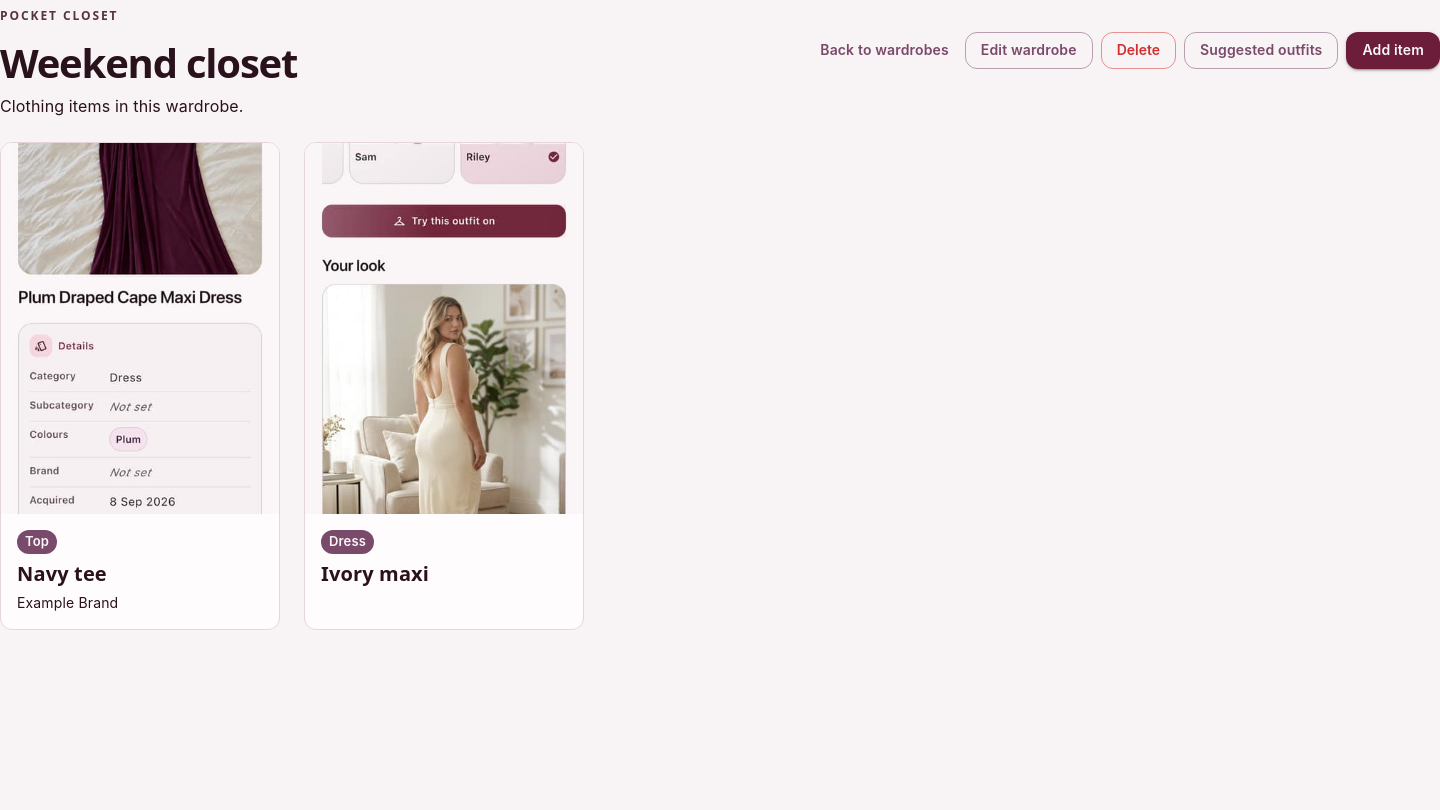
WardrobeDetailPage › invalidates catalog lists and goes to Home after a successful delete
The width and height of the screenshot is (1440, 810).
Click the button with aria-label "Delete this wardrobe". click: [1138, 50]
box: [1101, 32, 1176, 68]
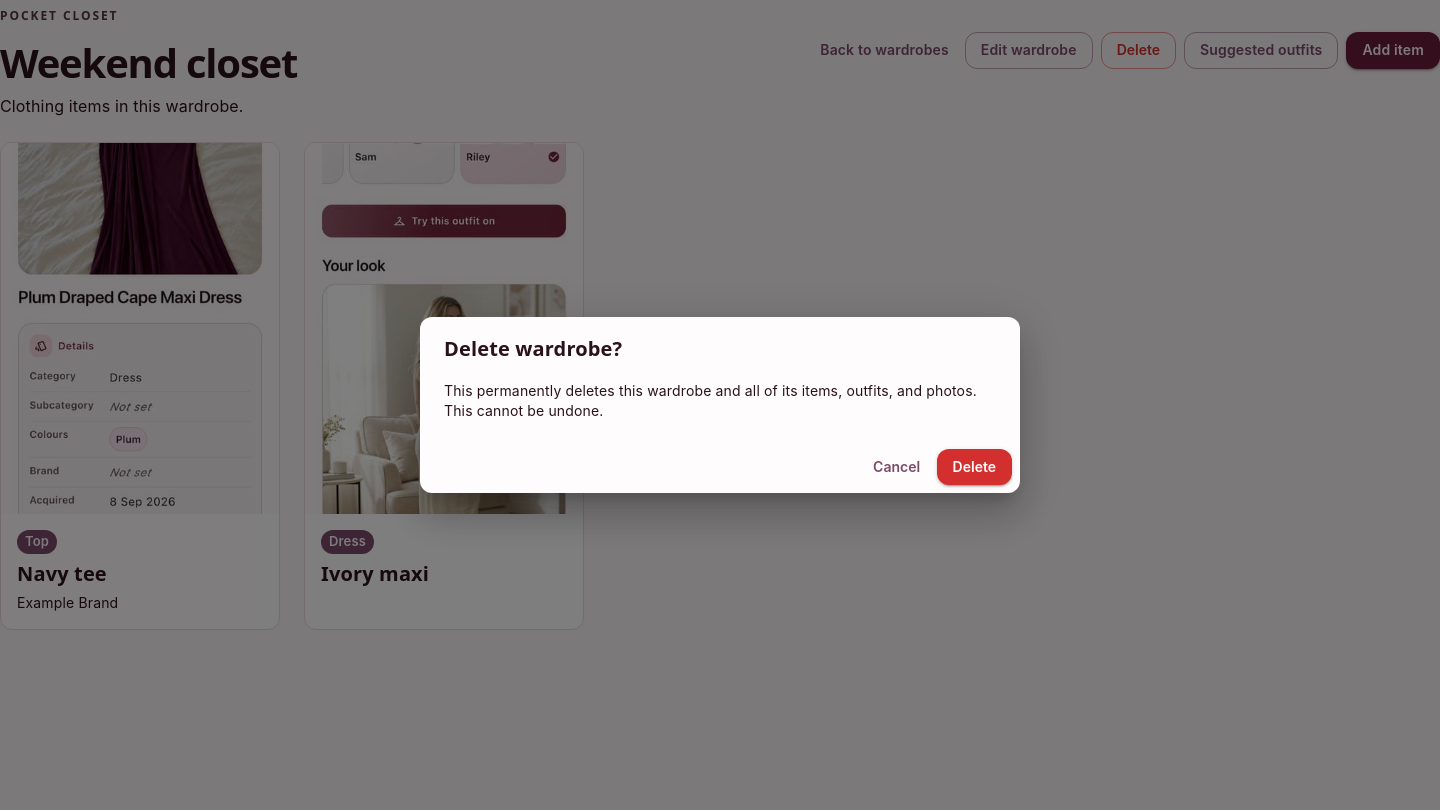
Click the button "Delete". click: [974, 467]
box: [937, 449, 1012, 485]
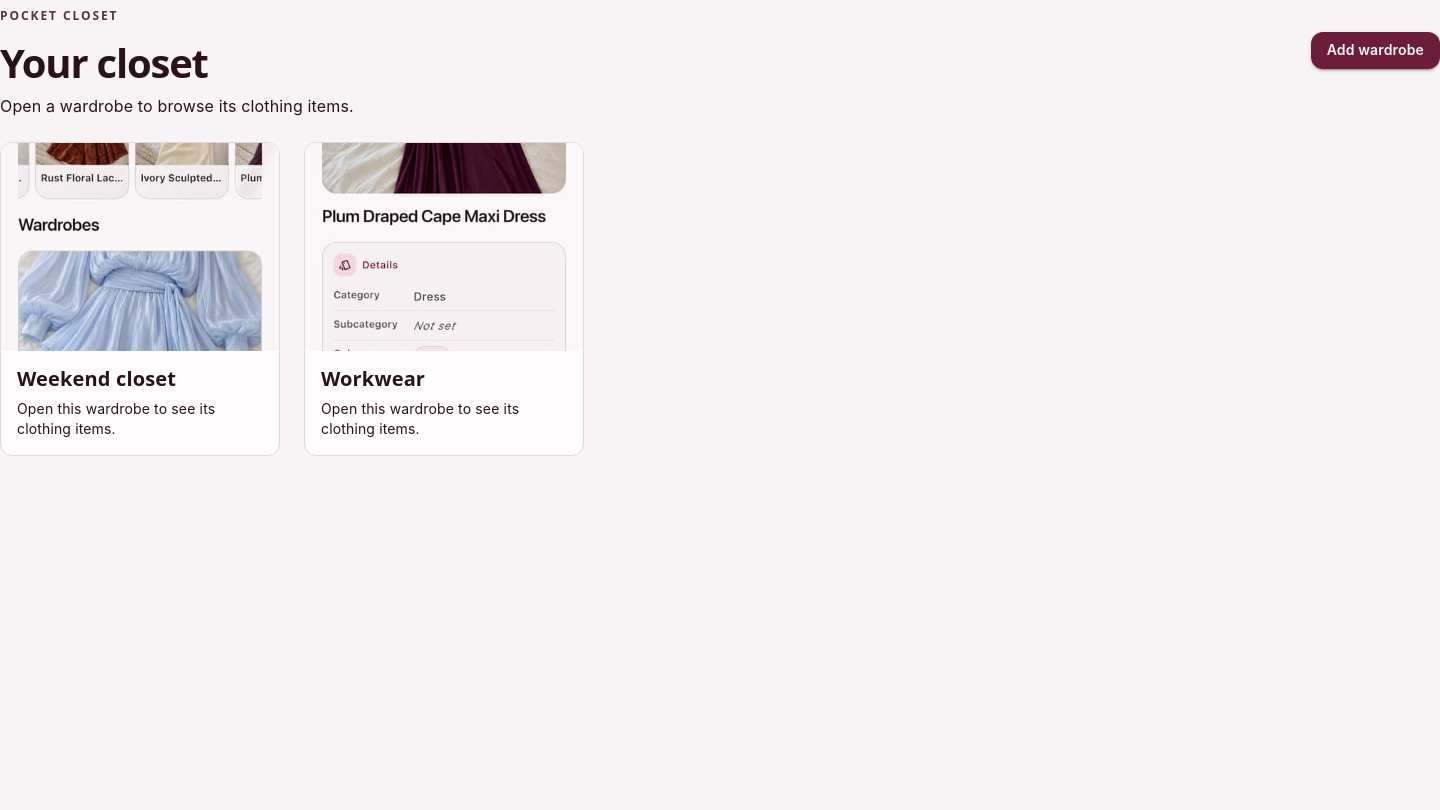
Expected: the heading "Your closet" is shown, [0, 35, 208, 90]
